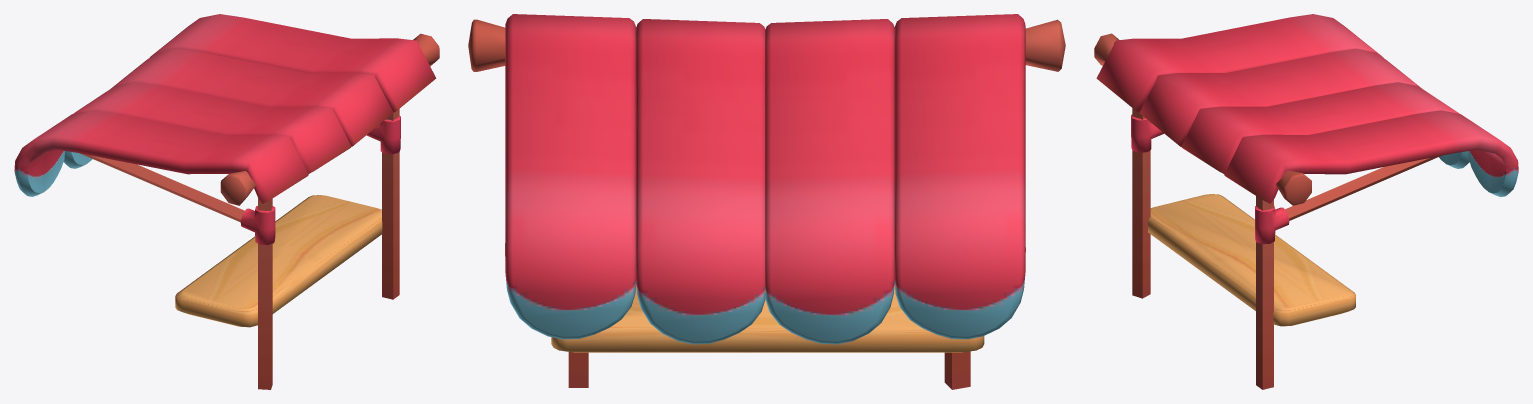
The model's file is CartCartain.fbx.
The picture shows the model from 3 angles, left to right: view 1: azimuth 30°, elevation 25°; view 2: azimuth 150°, elevation 25°; view 3: azimuth 270°, elevation 25°; orthographic projection. The views are drawn at different scales.
Visible parts, largest first — view 1: CartCartain; view 2: CartCartain; view 3: CartCartain.
Part boxes in pixels (x1,y1,x2,y2): CartCartain: [14, 14, 439, 389]; CartCartain: [468, 14, 1065, 389]; CartCartain: [1094, 14, 1518, 389].
Bounding box in the file's own units: 10.65 × 6.24 × 9.97.
1 material, 1 textured.
